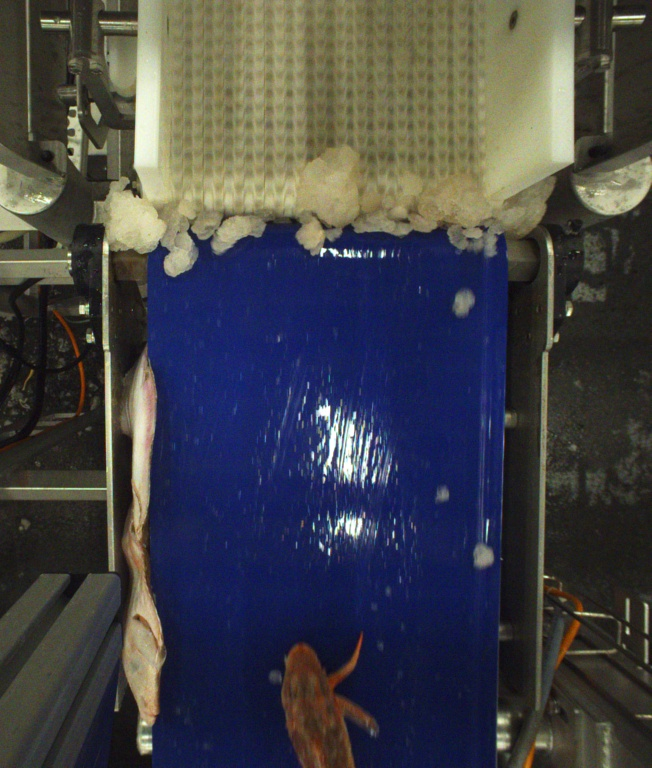GUU: (280, 634, 377, 765)
